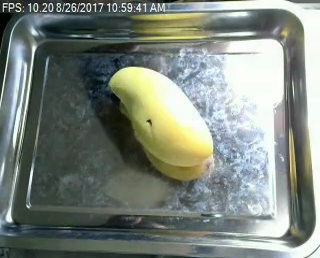Mango: (101, 61, 218, 171)
